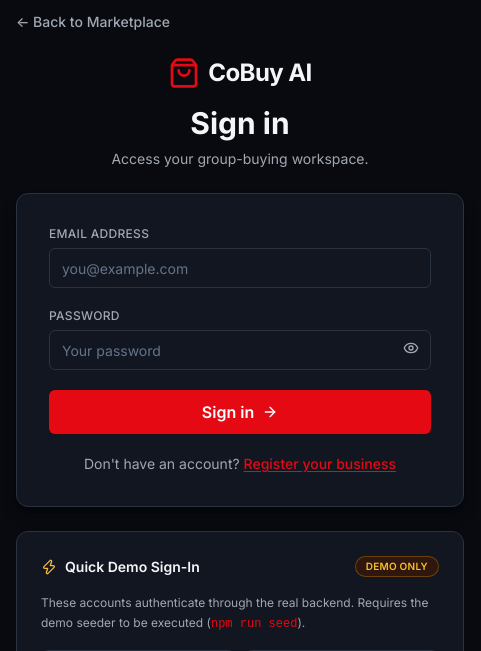
Test: HIM-04: LoginPage › displays backend error message on failed login
Type "bad@email.com" into the field labelled "Email address" at [240, 268], box [49, 248, 431, 288]
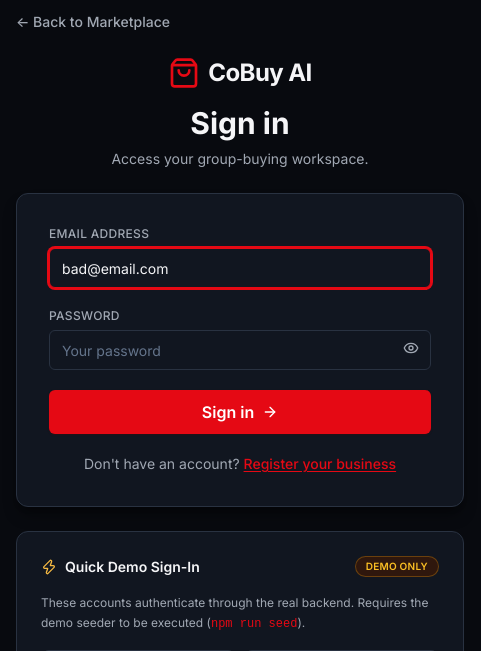
Type "wrongpass" into the password field labelled "Password" at [240, 350], box [49, 330, 431, 370]
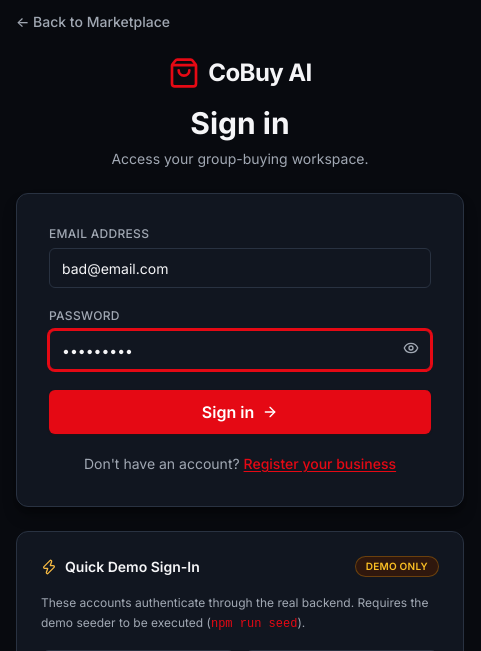
Click the button with aria-label "sign in to your account" at [240, 412], box [49, 390, 431, 434]
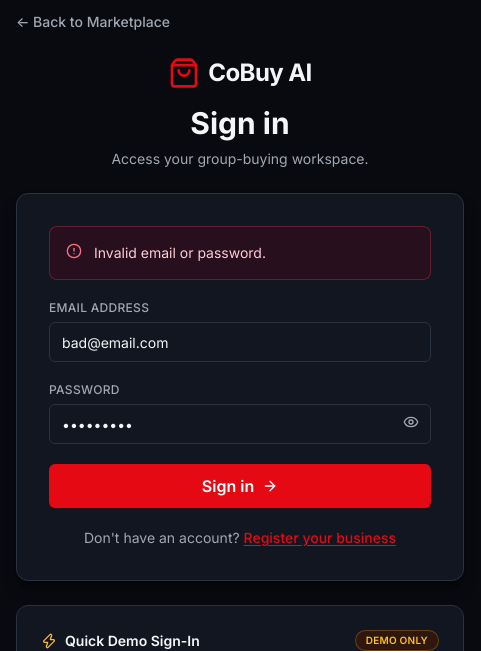
Result: the text "Invalid email or password." is shown at [94, 244, 266, 261]
